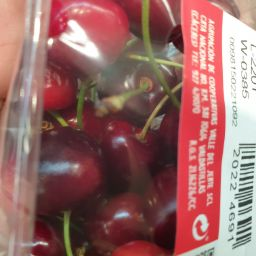Cherry: (54, 3, 177, 256), (42, 68, 147, 197), (42, 68, 165, 141), (50, 1, 131, 75), (45, 132, 105, 221), (43, 215, 171, 256)
